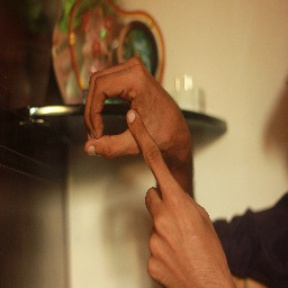Q: (81, 53, 196, 212)
